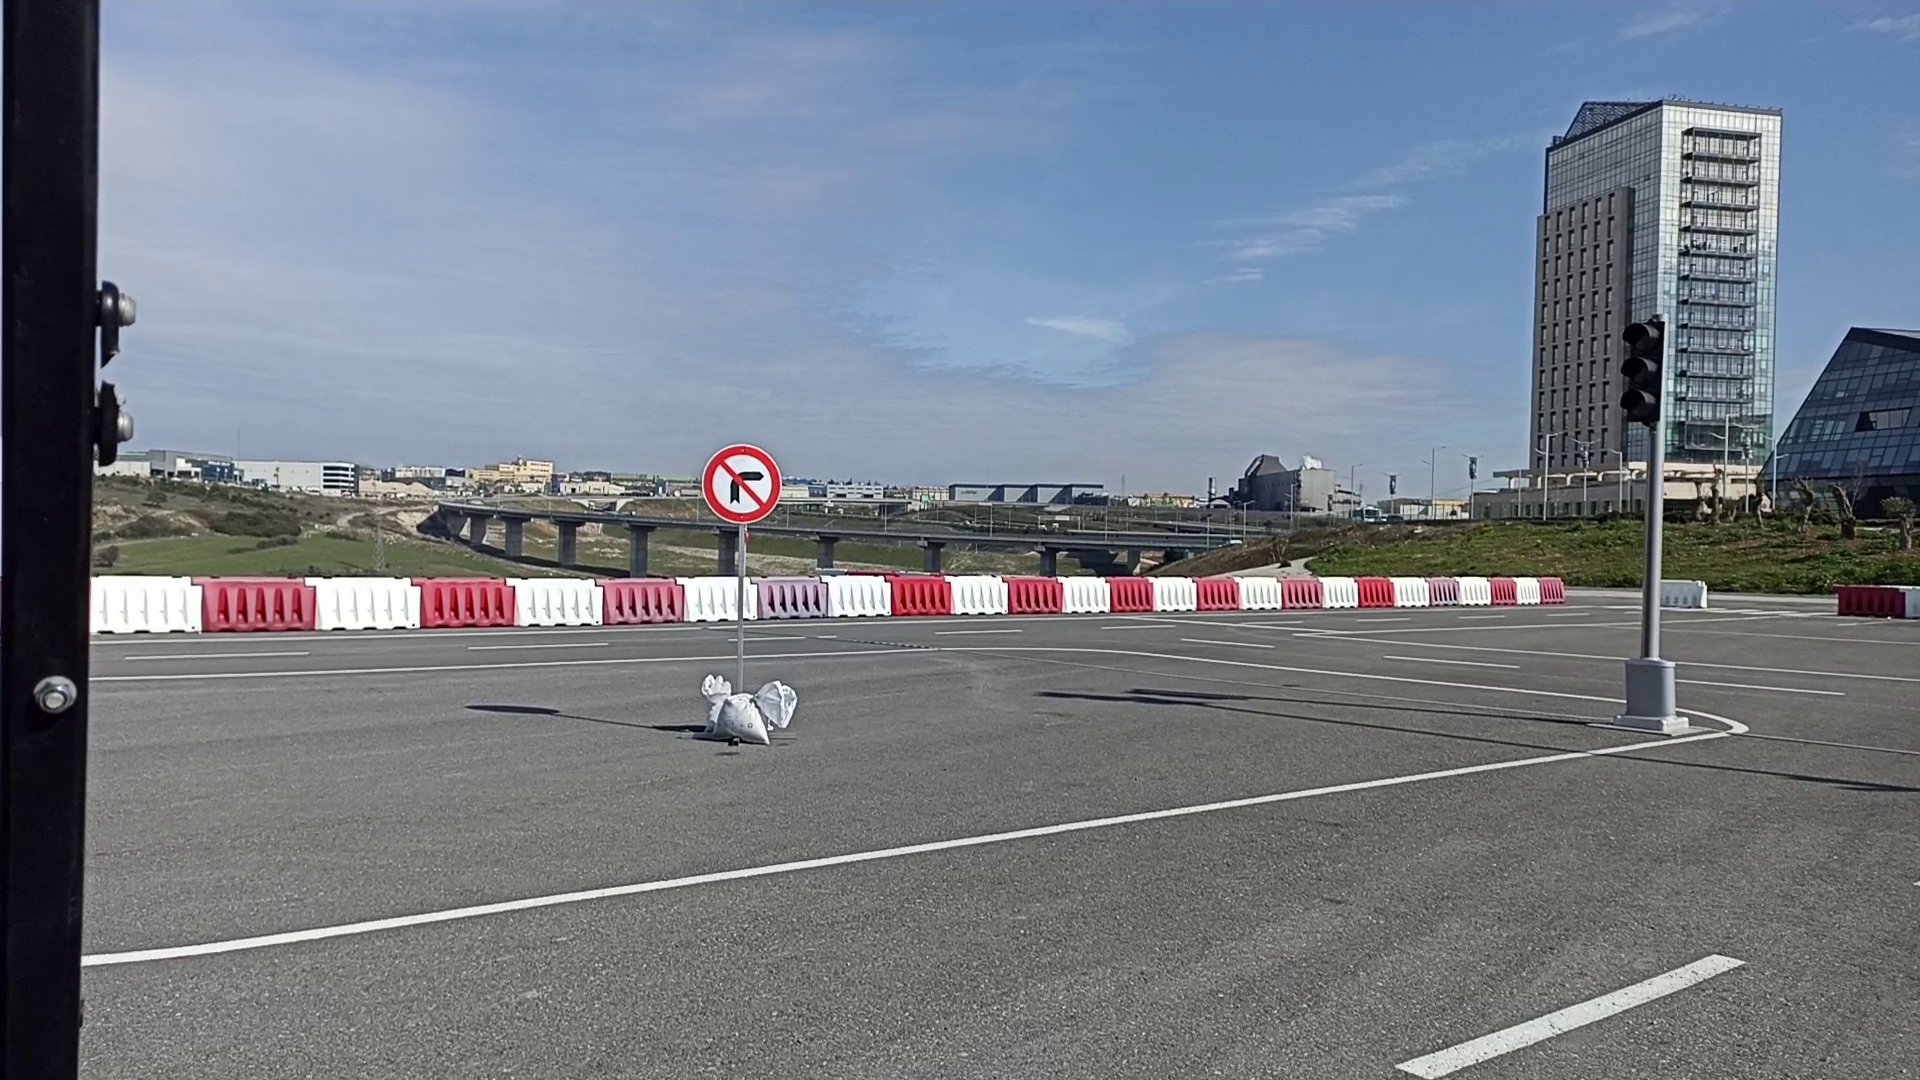noleftturn: (700, 440, 783, 527)
trafficlight: (1618, 313, 1667, 425)
